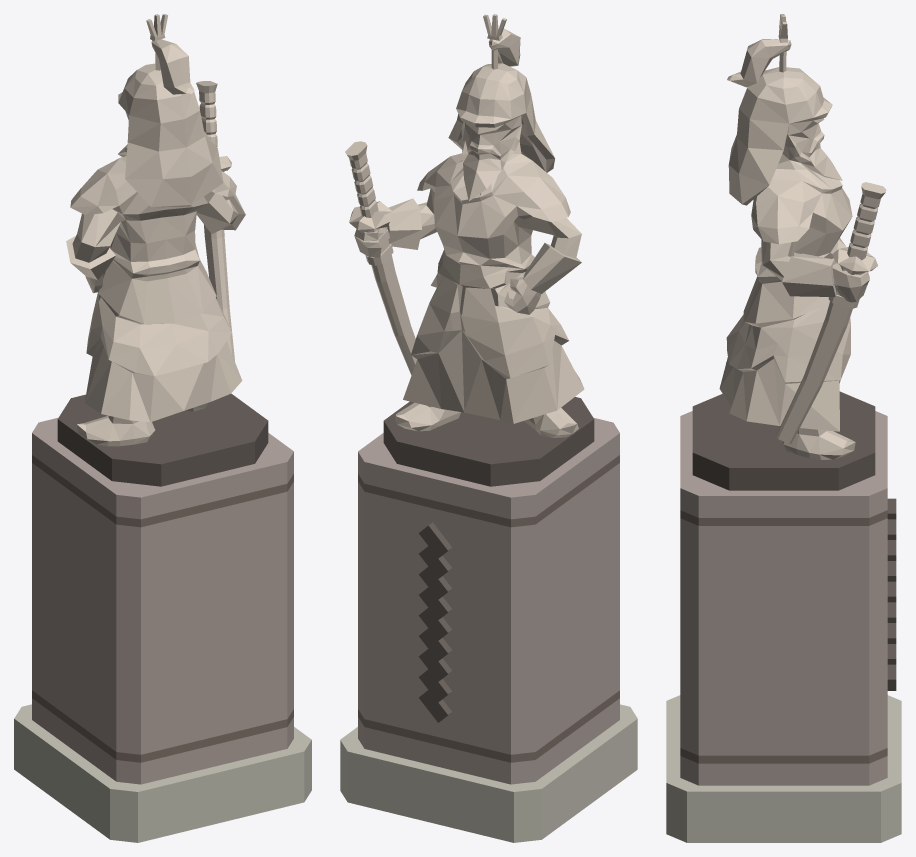
Rendered from leesunshinStatue.FBX.
3 renders of one model, left to right at view 1: azimuth 30°, elevation 25°; view 2: azimuth 150°, elevation 25°; view 3: azimuth 270°, elevation 25°, orthographic.
Parts seen in each view (by area): view 1: leesunshinStatue; view 2: leesunshinStatue; view 3: leesunshinStatue.
Boxes of the visible parts, x1,y1,x2,y2 form: leesunshinStatue: (14,14,311,842); leesunshinStatue: (340,14,637,842); leesunshinStatue: (666,14,901,842).
Bounding box in the file's own units: 3.62 × 13.01 × 3.58.
